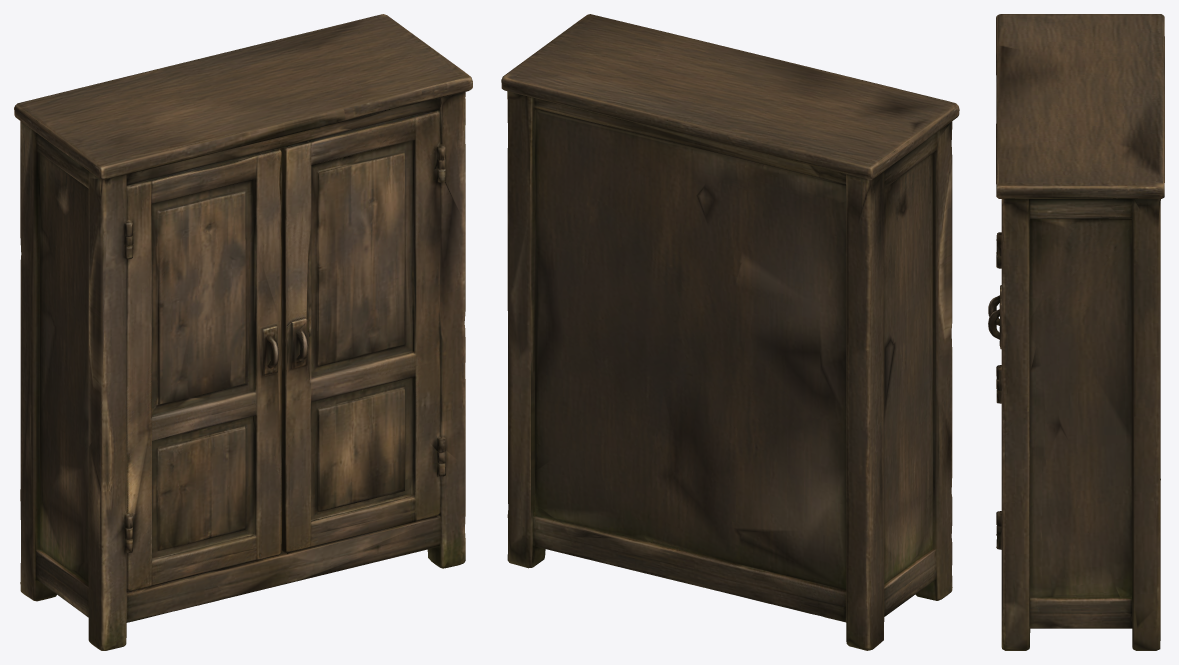
Rendered from ArmarioCerrado.glb.
3 views of the same model, side by side, from view 1: azimuth 30°, elevation 25°; view 2: azimuth 150°, elevation 25°; view 3: azimuth 270°, elevation 25° (orthographic). The views are drawn at different scales.
Parts seen in each view (by area): view 1: node_0; view 2: node_0; view 3: node_0.
Boxes of the visible parts, x1=… form: node_0: x1=14, y1=14, x2=472, y2=650; node_0: x1=501, y1=14, x2=959, y2=650; node_0: x1=988, y1=14, x2=1164, y2=650.
Size of the model in its own units: 0.7272 by 0.9129 by 0.3129.
1 material, 1 textured.
